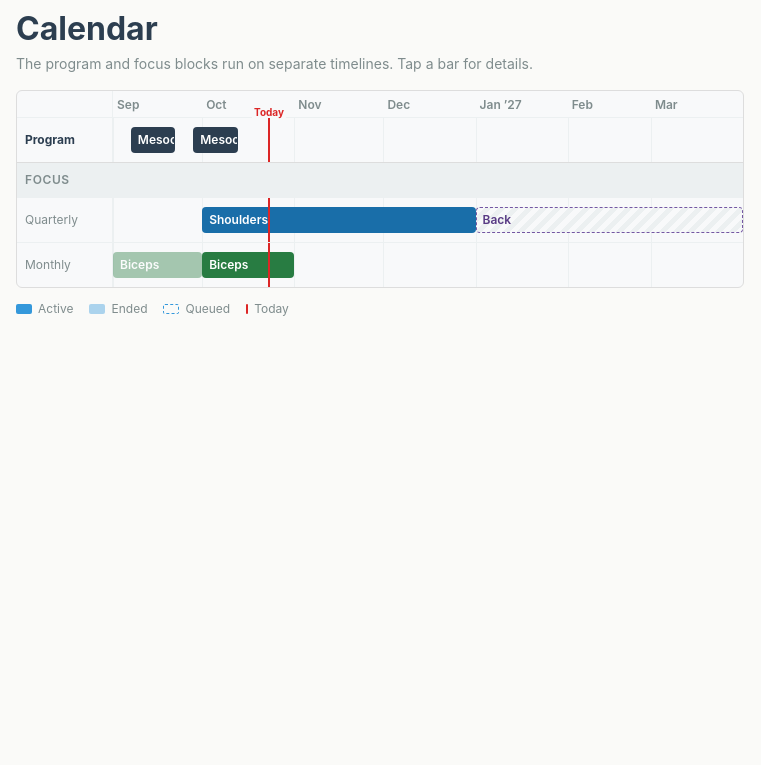
FocusCalendar › shows a saved renewal even when the refetch after it fails
The image size is (761, 765).
Click the button with aria-label "Biceps focus block, October 2026, active" at (248, 265), box [202,252,294,278]
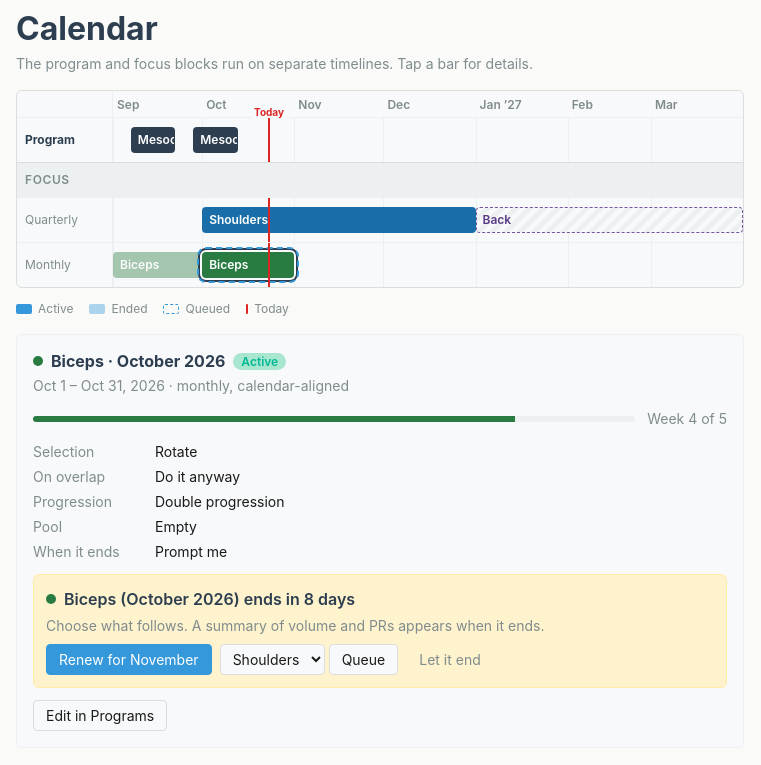
Click the button "Renew for November" at (129, 660), box [46,644,212,675]
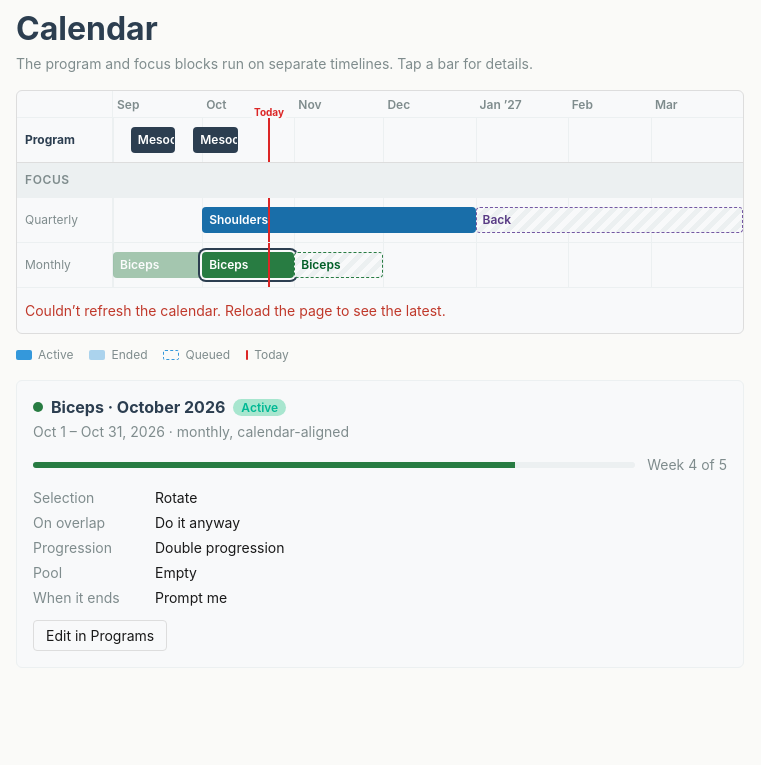
Check: the button with aria-label "Biceps focus block, November 2026, queued" is shown, box [294,252,383,278]
Check: the button "Renew for November" is gone
Check: the message shows "Couldn’t refresh the calendar.", box [25,302,446,319]
